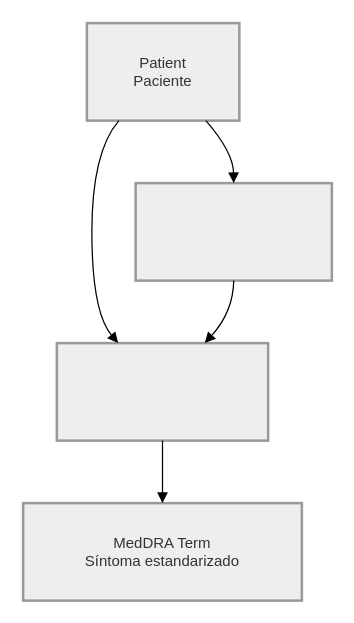
The diagram is 354 pixels wide and 623 high, and some of its shapes have lost their labels. The centre of each missing label's shape, as x and y in pixels:
Immunization Vacuna: the point at 233,231
Observation Evento adverso: the point at 162,391
